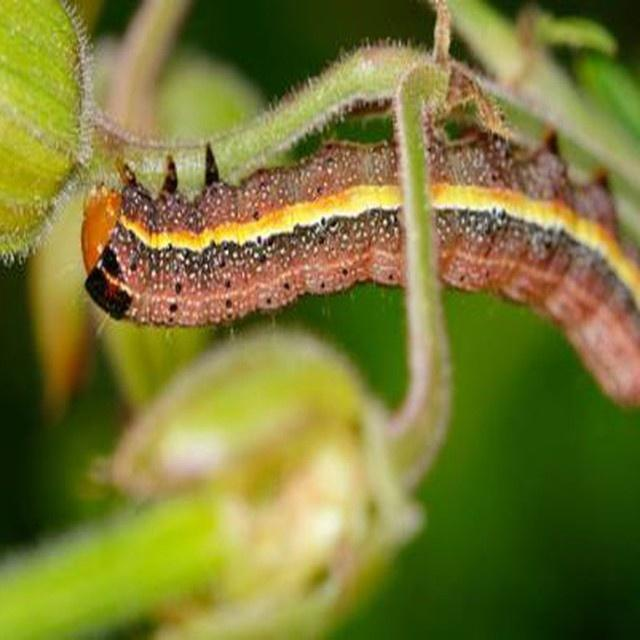gusano_cogollero: (87, 128, 640, 388)
